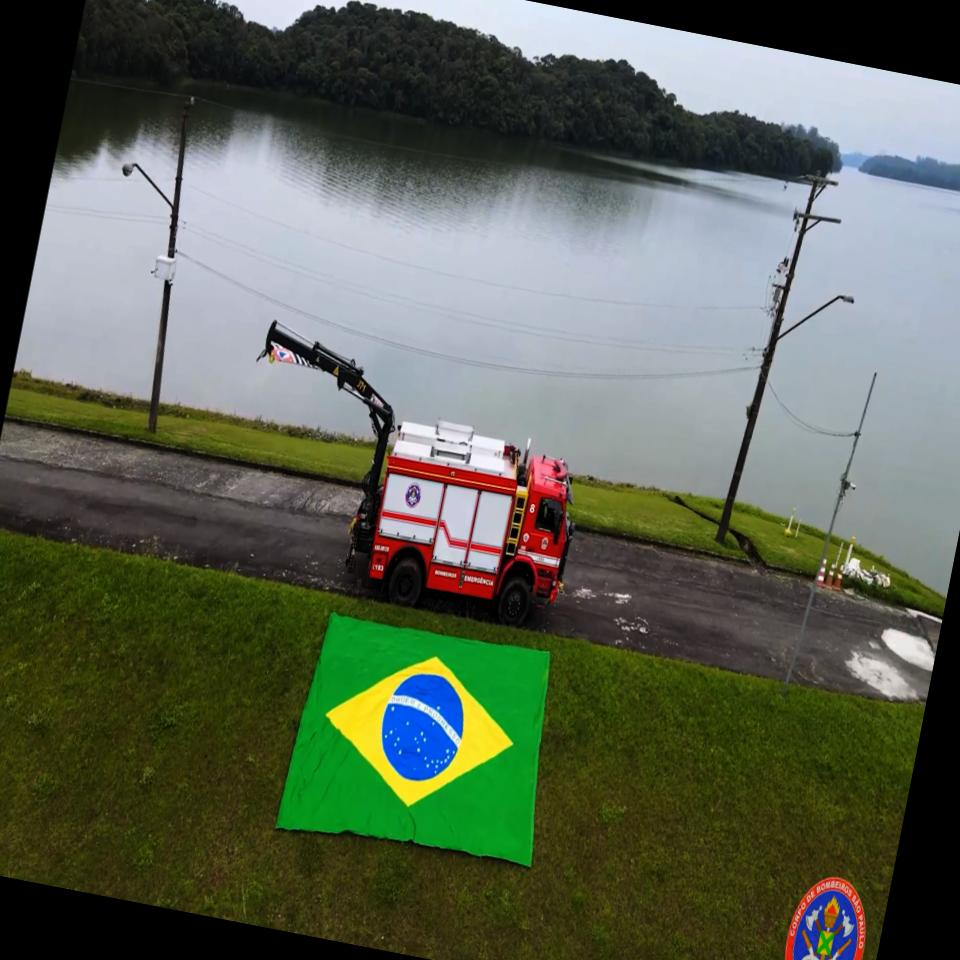viatura: (214, 314, 603, 636)
